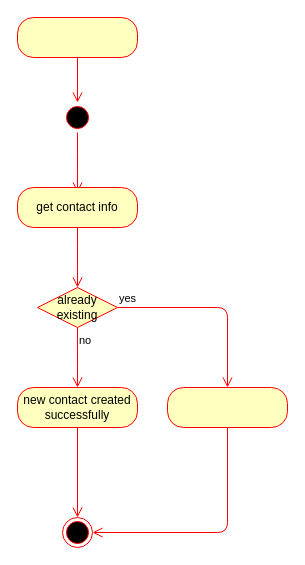
Image size: 305x565. Some labels were removed from this diagram. Each missing label, with the centre of its shape:
clicking on add new contact button: (x=77, y=37)
msg "already existing": (x=227, y=407)
